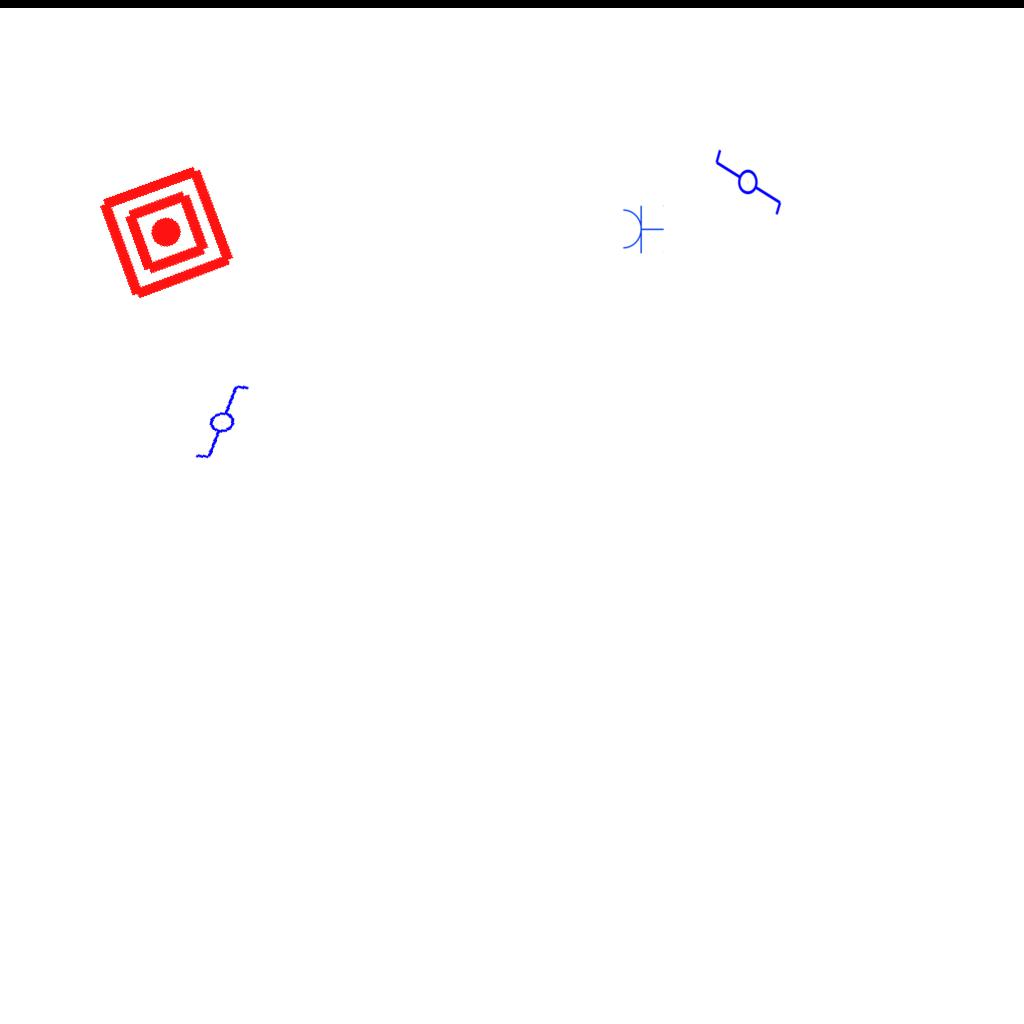NAM-Nichtautomatischer_Melder: (94, 160, 239, 305)
Schukosteckdose_einfach: (621, 204, 664, 254)
Wechselschalter: (172, 379, 264, 465), (713, 139, 785, 217)
